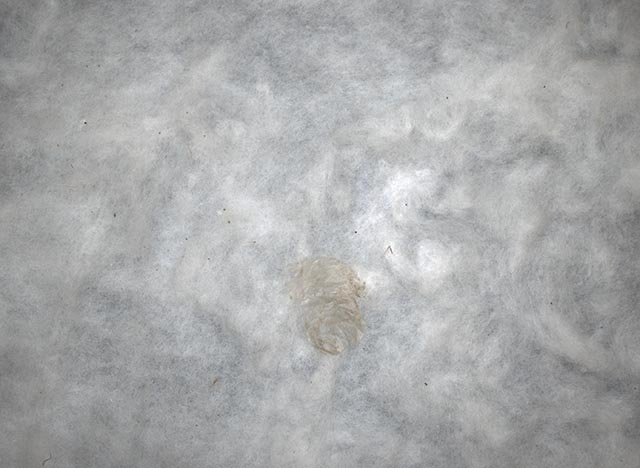plastic film: (284, 256, 367, 356)
